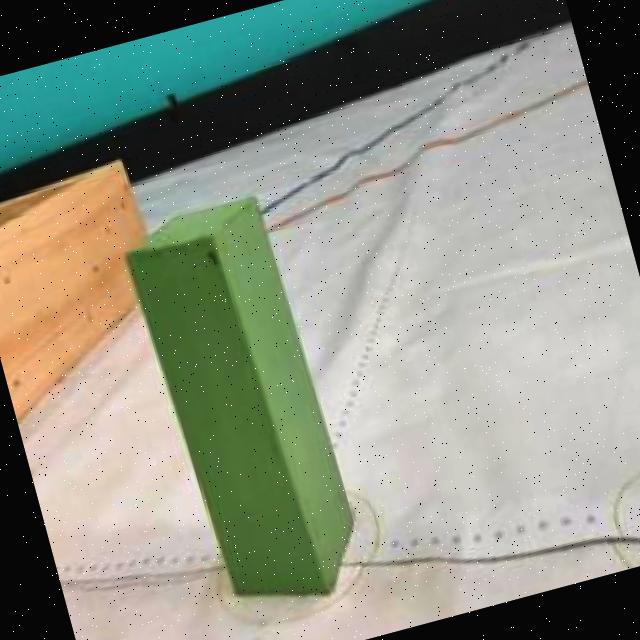greenbox: (113, 181, 374, 624)
